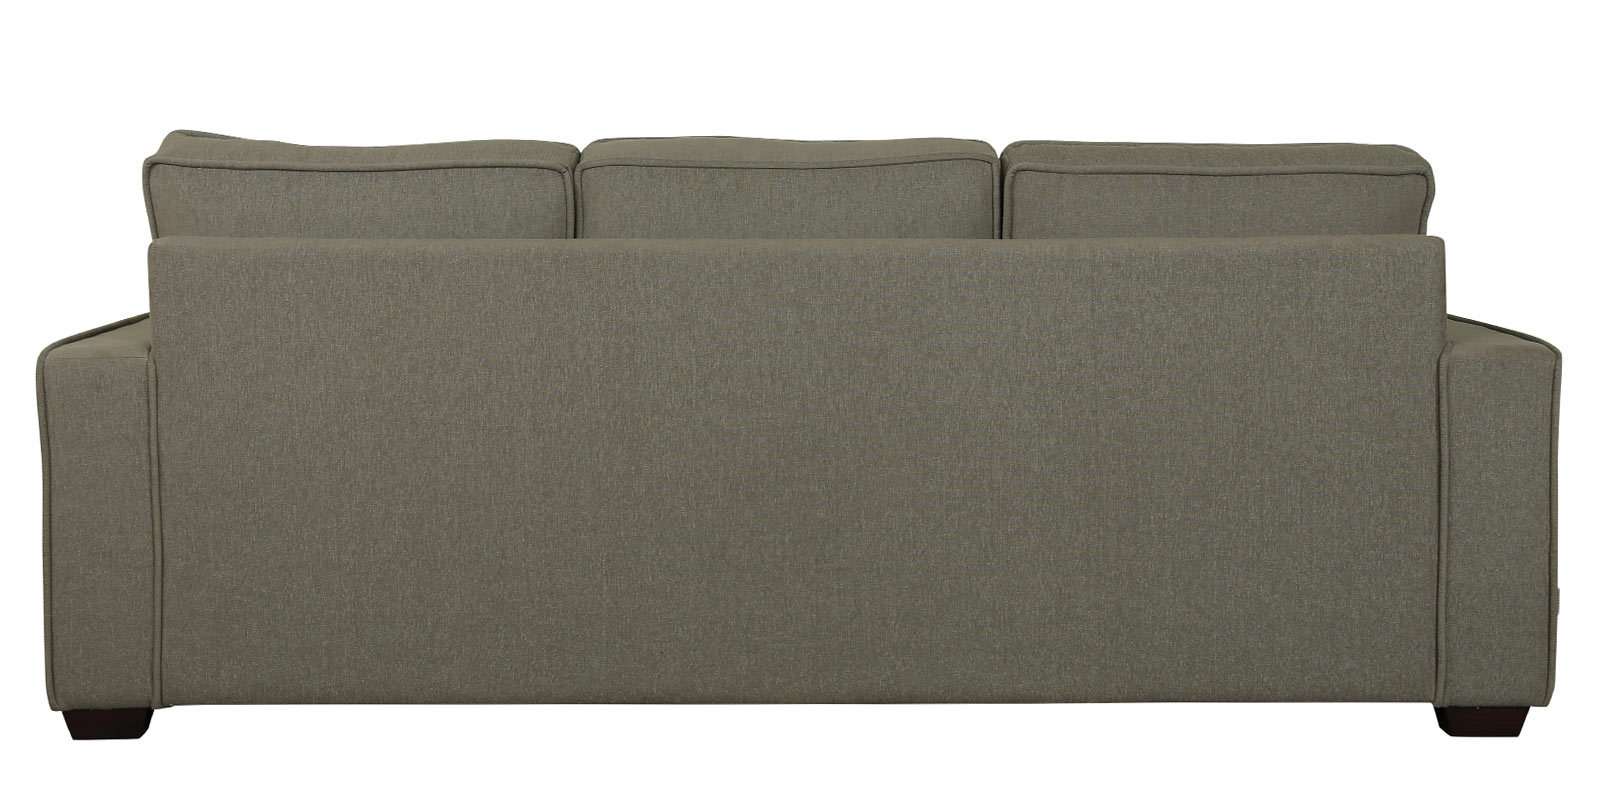Hugo Three Seater Sofa in Sandy Brown Colour by CasaCraft: (29, 121, 1593, 766)
